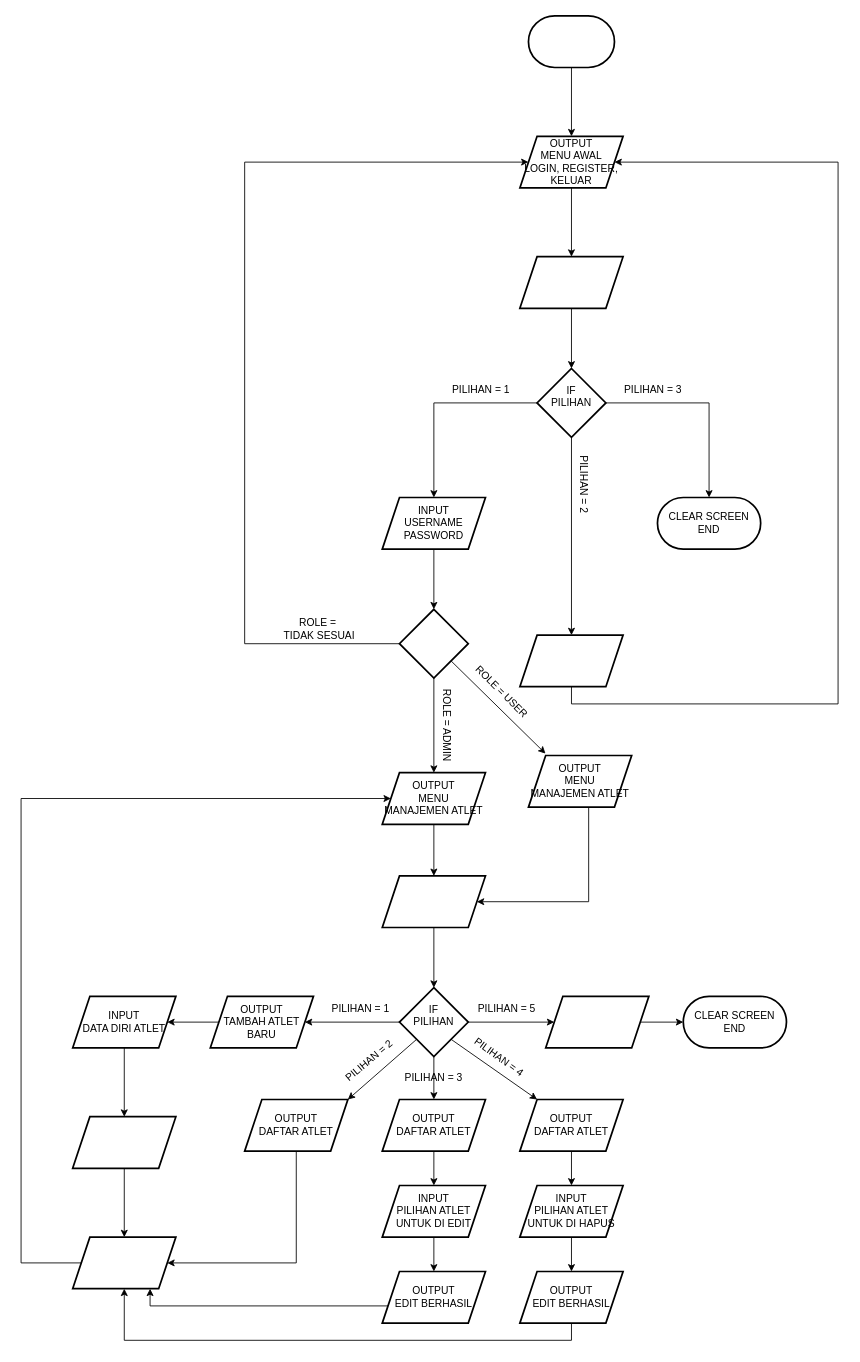
This 860x1362 diagram has some shape labels left out. The centre of each missing label's shape, as x and y in pixels:
"IF ROLE" goes at pixel 433 643.
"INPUT ENTER UNTUK KEMBALI KE MENU" goes at pixel 123 1262.
"INPUT PILIHAN" goes at pixel 433 901.
"INPUT PILIHAN MENU AWAL" goes at pixel 571 282.
"INPUT USERNAME BARU PASSWORD BARU" goes at pixel 571 660.
"OUTPUT ATLET TELAH DITAMBAHKAN" goes at pixel 123 1142.
"OUTPUT TERIMA KASIH" goes at pixel 596 1021.
"START" goes at pixel 571 41.
